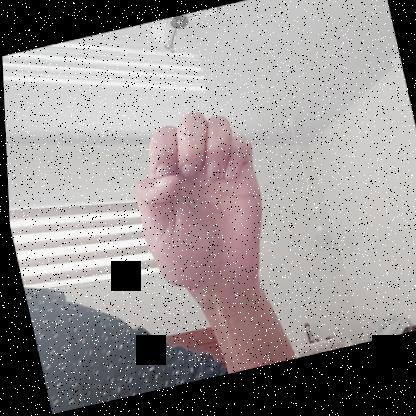E: (117, 93, 279, 304)
